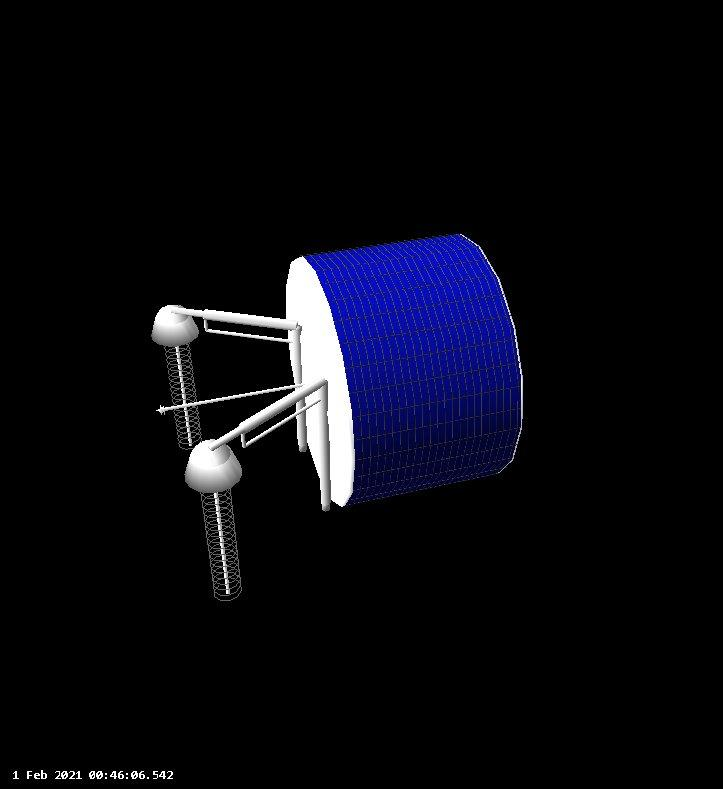antenna: (182, 433, 252, 605), (145, 295, 210, 459), (153, 379, 307, 417)
body: (279, 225, 532, 514)
solar: (299, 230, 522, 507)
